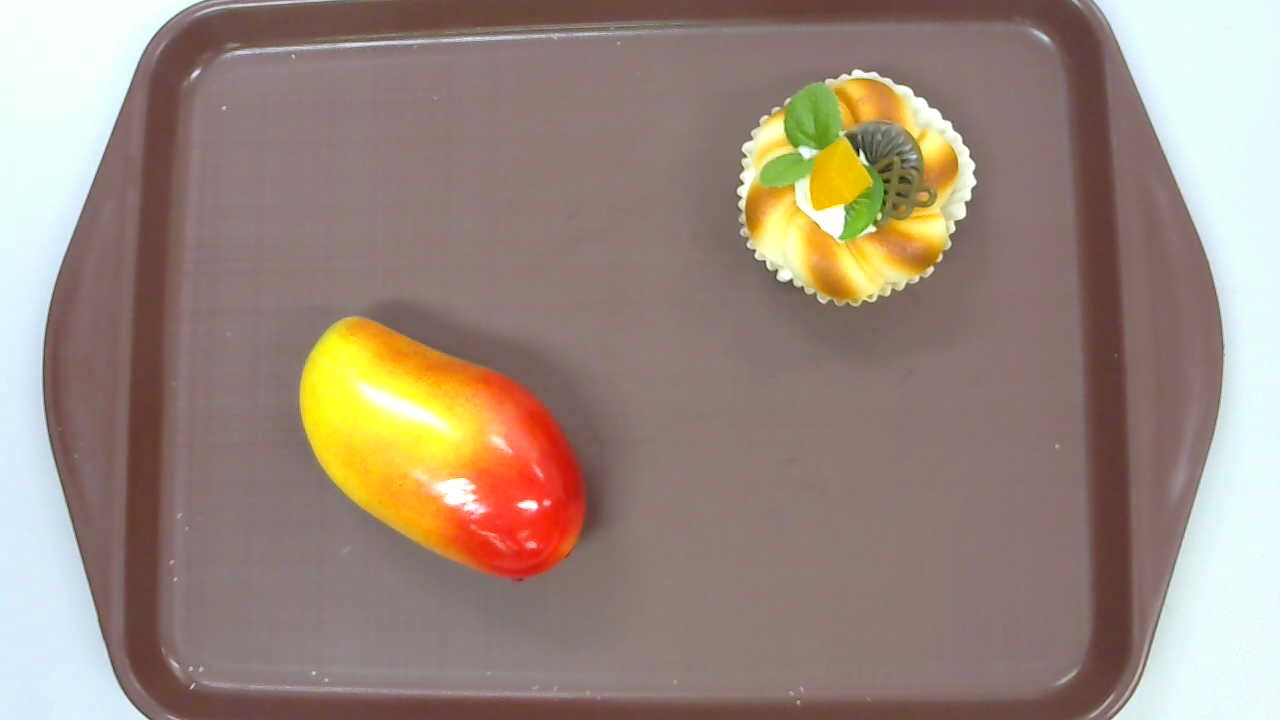fruit tart: (735, 68, 978, 309)
red mango: (300, 316, 589, 584)
